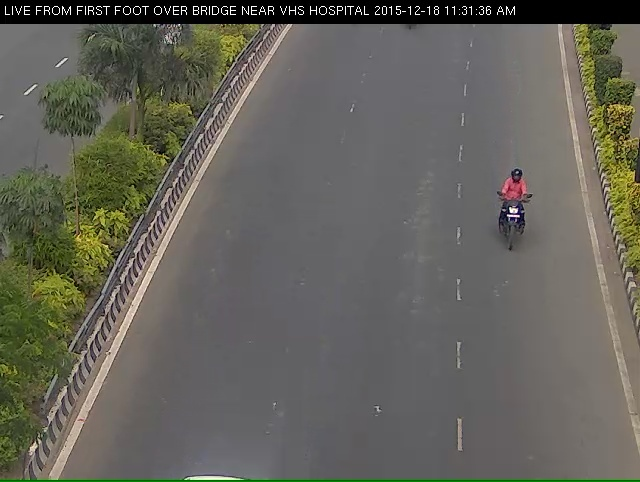Person: (492, 178, 540, 274)
